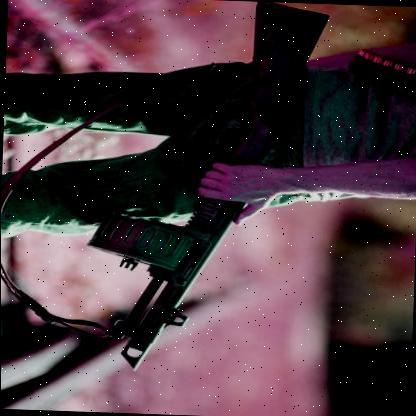rifle: (68, 0, 333, 378)
